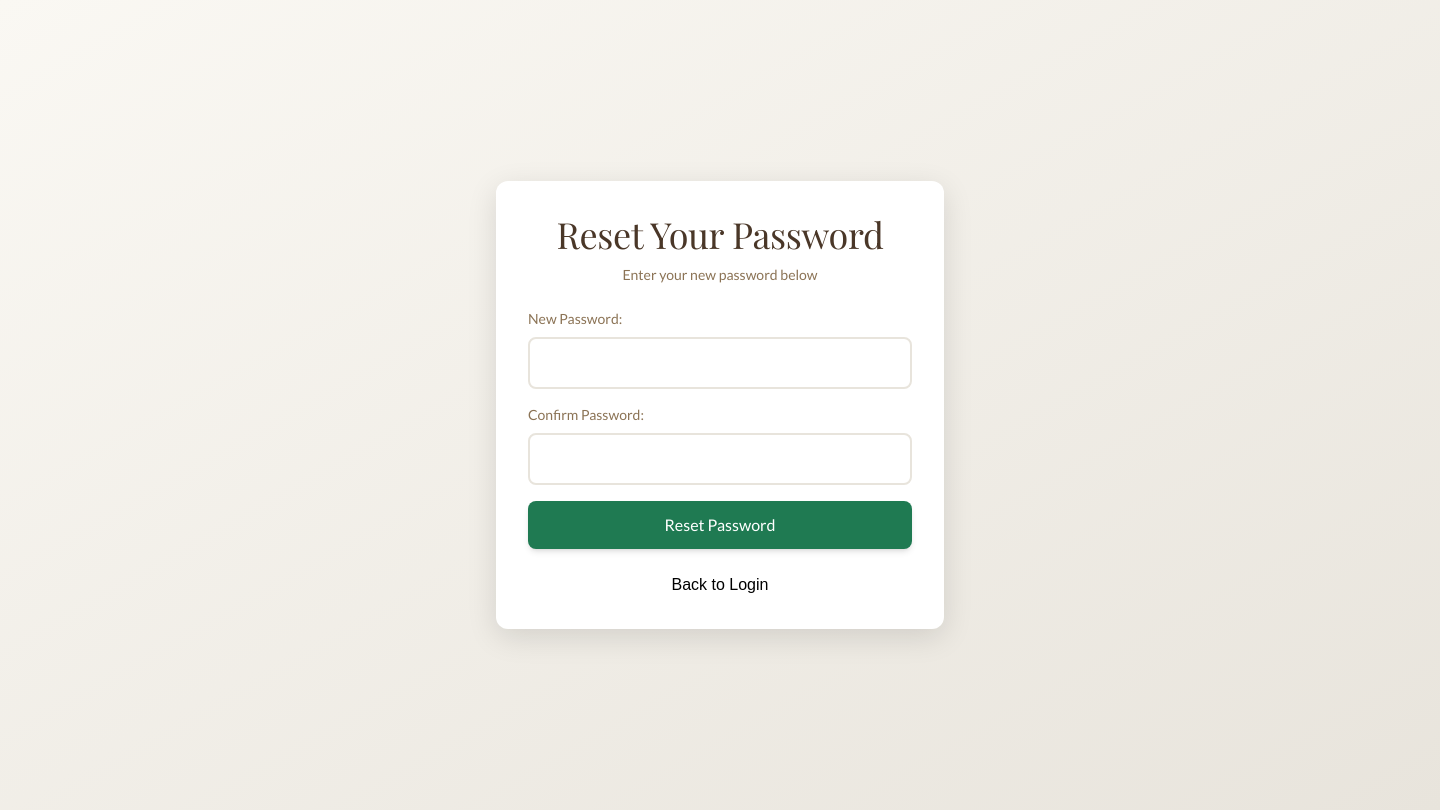
Test: ResetPassword Component › Form Submission › shows loading state during submission
Type "newpassword123" into the password field labelled "New Password:" at (720, 363), box top-left (528, 337), bottom-right (912, 389)
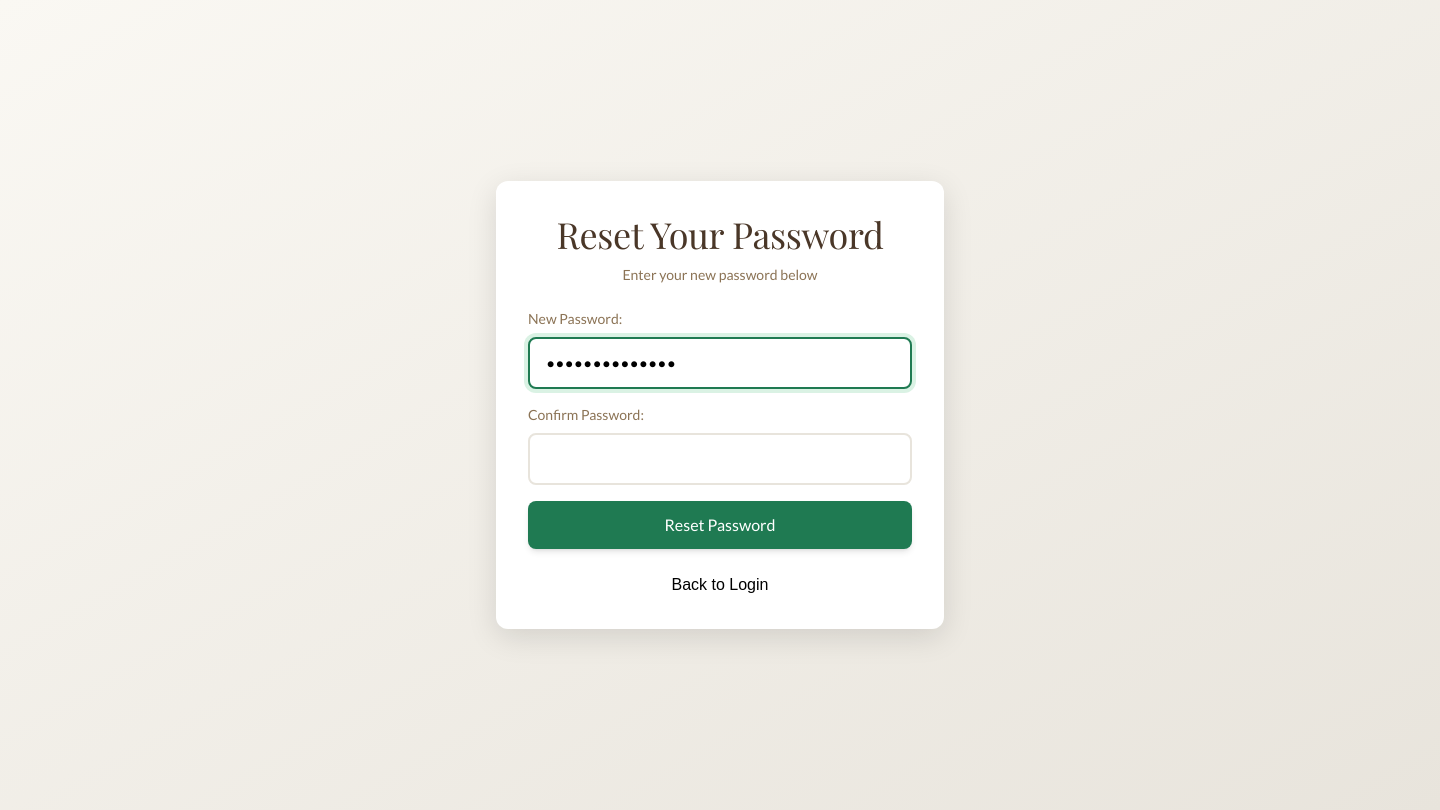
Type "newpassword123" into the password field labelled "Confirm Password:" at (720, 459), box top-left (528, 433), bottom-right (912, 485)
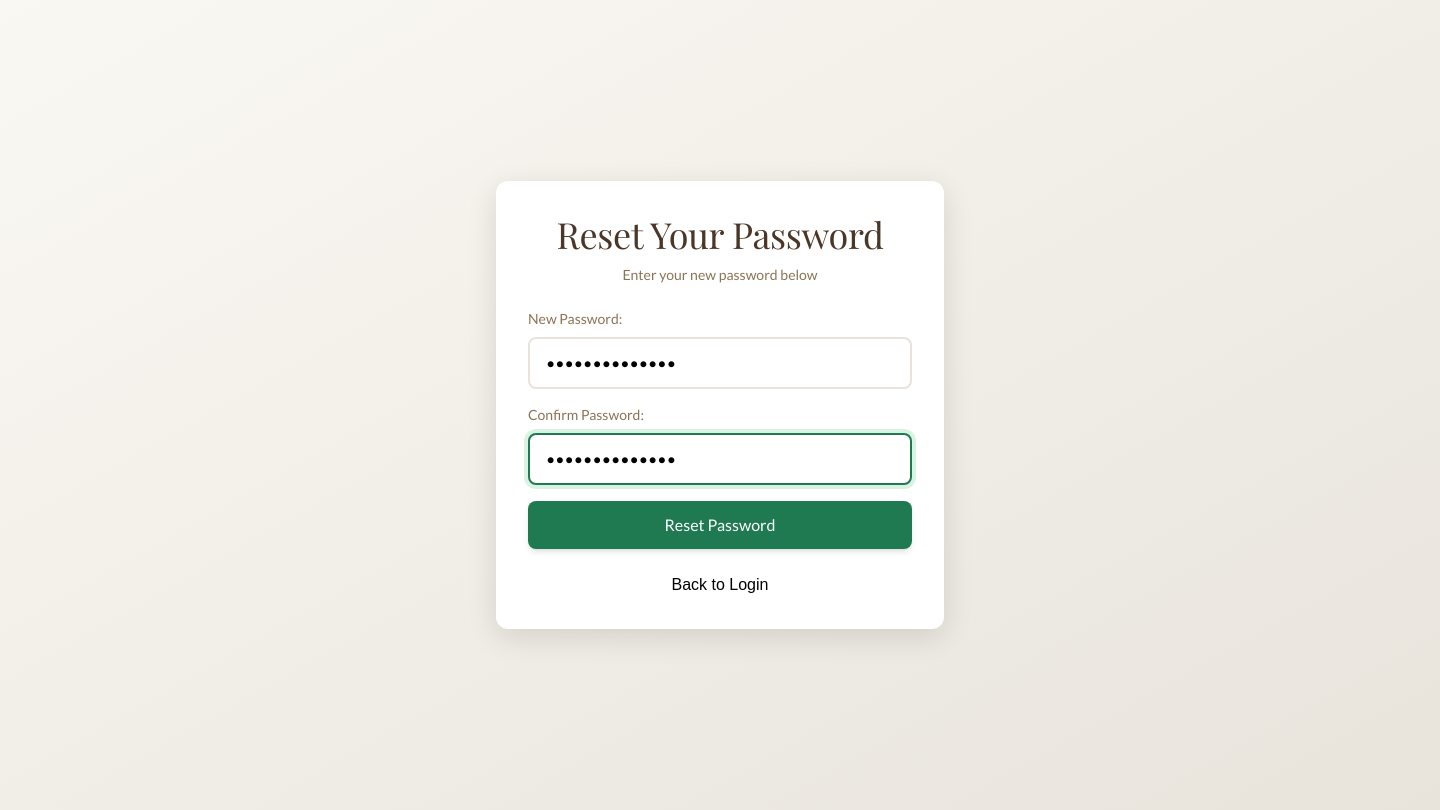
Click the button "Reset Password" at (720, 525), box top-left (528, 501), bottom-right (912, 549)
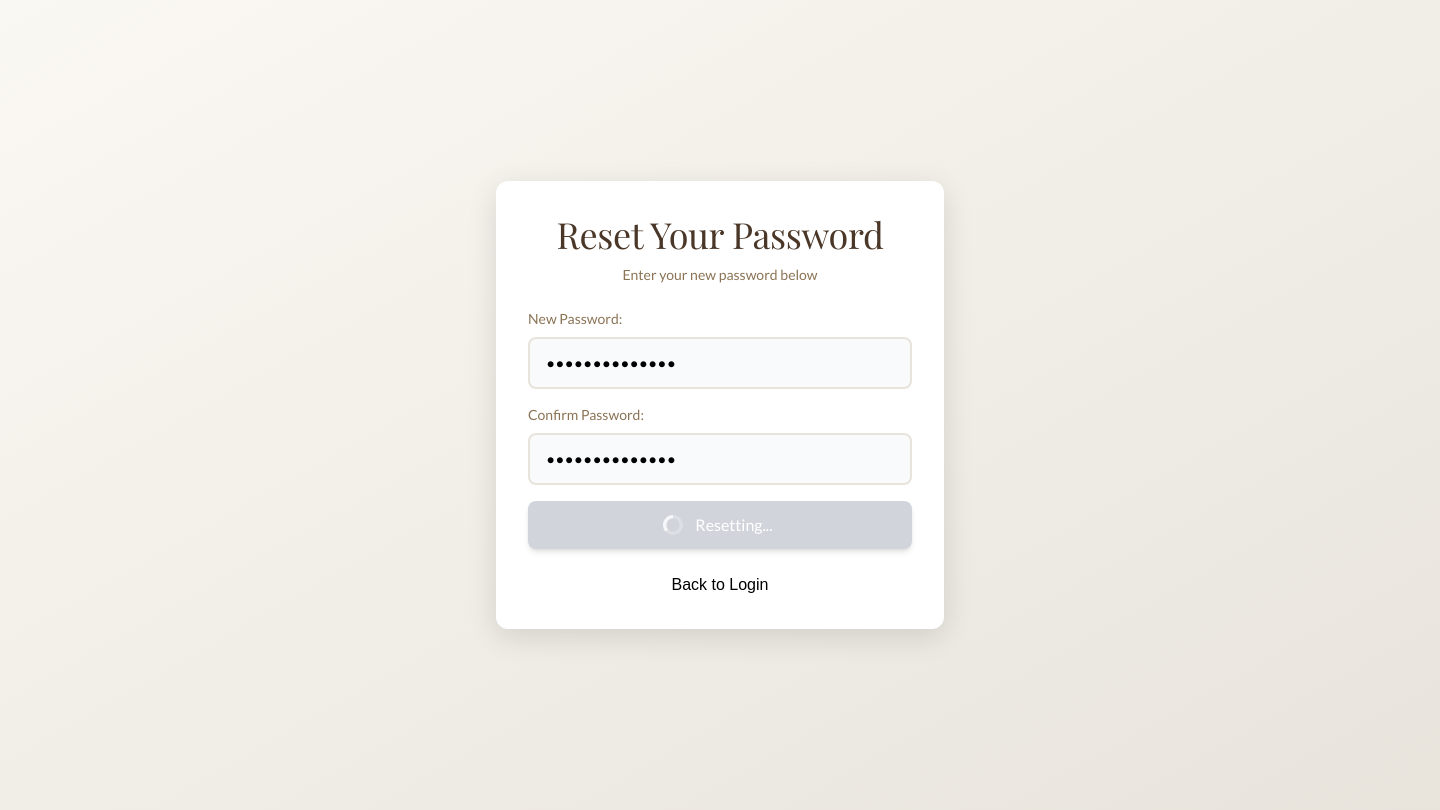
Now the text "Resetting..." is shown, box top-left (663, 515), bottom-right (773, 535)
